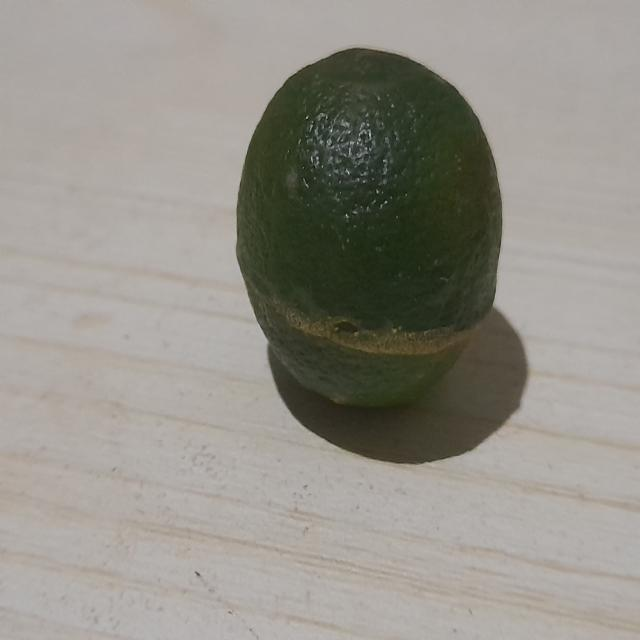thrips: (233, 41, 502, 418)
